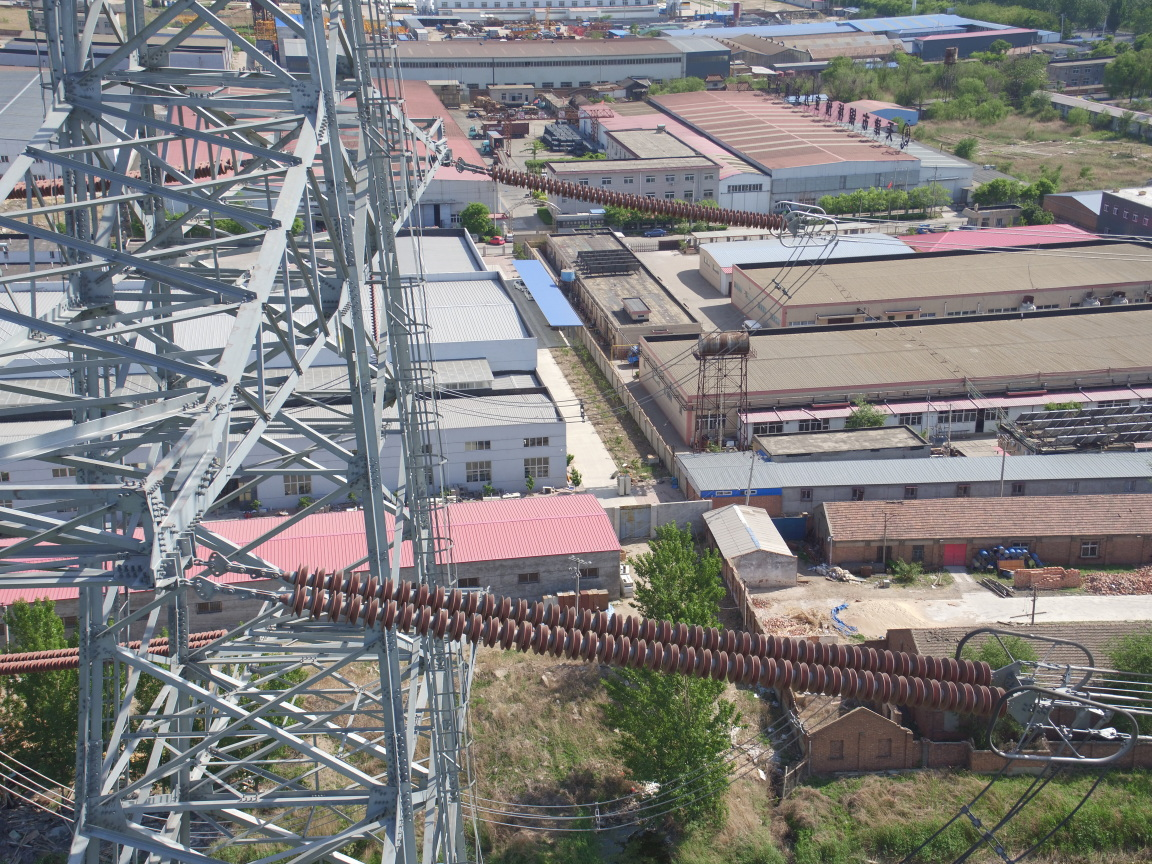insulator: (241, 560, 1018, 724), (471, 160, 791, 236)
